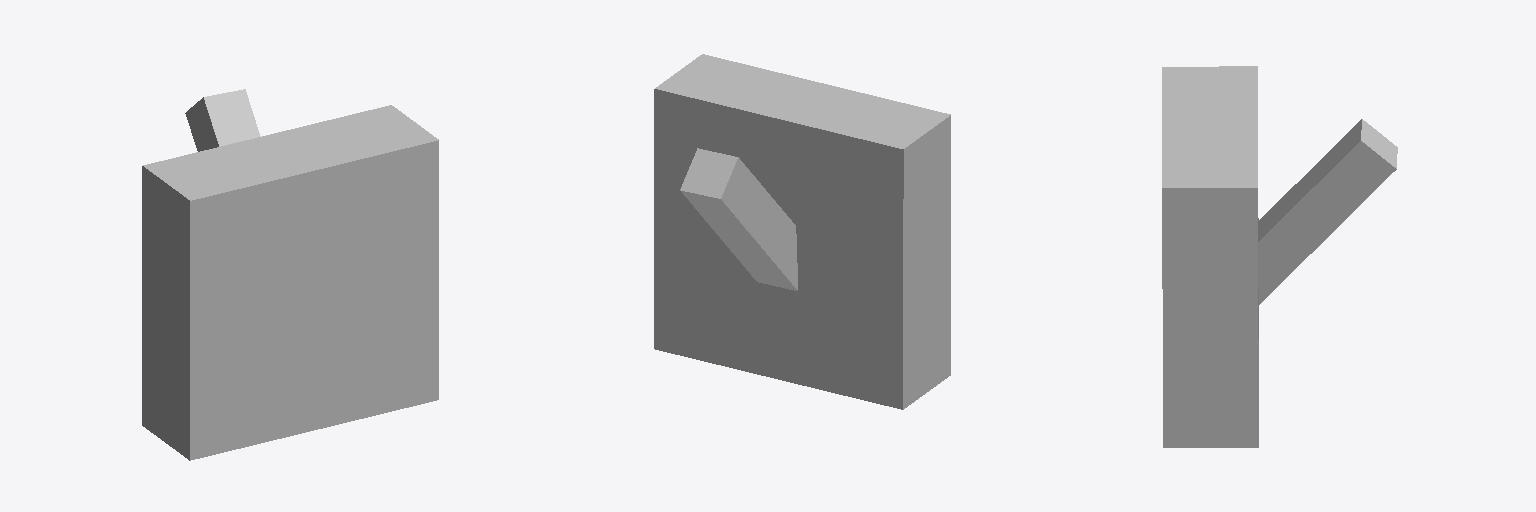
Rendered from I_Palanca.obj.
3 views of the same model, side by side, from view 1: azimuth 30°, elevation 25°; view 2: azimuth 150°, elevation 25°; view 3: azimuth 270°, elevation 25° (orthographic).
Parts seen in each view (by area): view 1: Palanca-Extension; view 2: Palanca-Extension; view 3: Palanca-Extension.
Boxes of the visible parts, <box> form: Palanca-Extension: <box>142,89,438,460</box>; Palanca-Extension: <box>654,54,950,409</box>; Palanca-Extension: <box>1162,66,1397,447</box>.
Bounding box in the file's own units: 0.299 × 0.302 × 0.245.